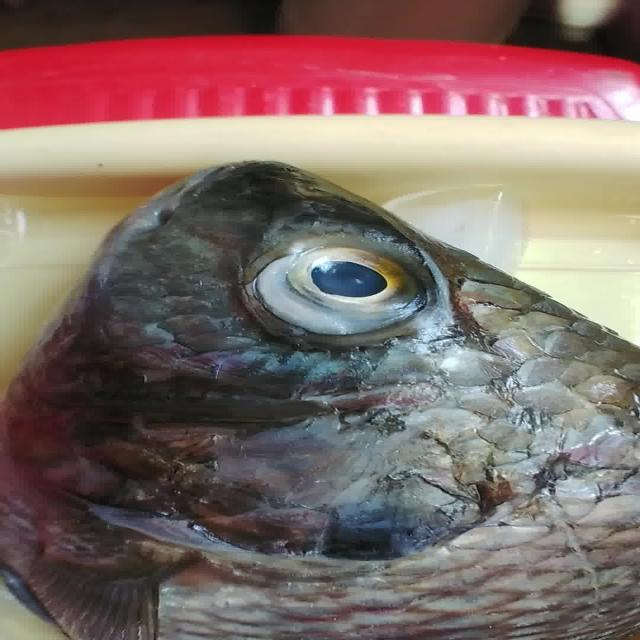Fresh: (239, 212, 459, 359)
